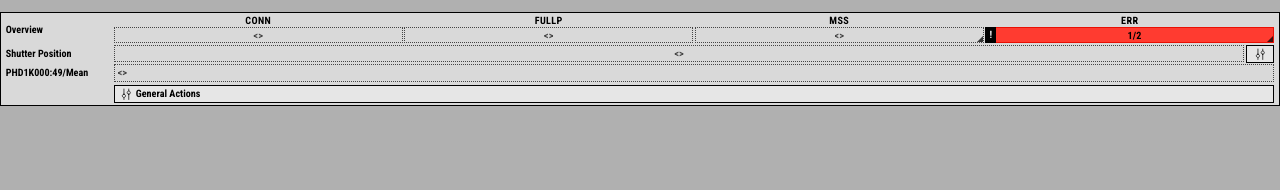
Test: GeneralSection › expands the Module Errors detail list and labels items by error name
Step 1. Click the button named "Toggle module errors detail" → (1130, 35), box [985,27,1274,43]
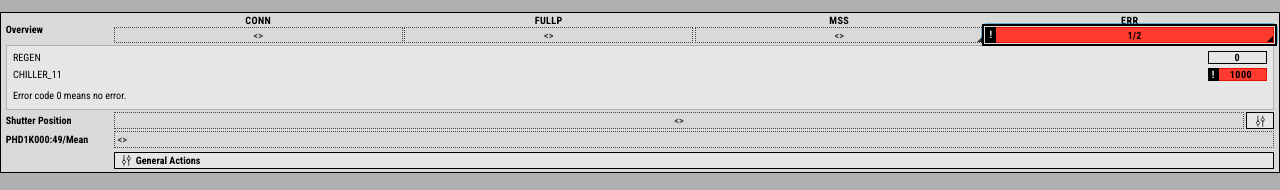
expect the text "REGEN" is shown: met, box [13,52,41,62]
expect the text "CHILLER_11" is shown: met, box [13,69,62,80]
